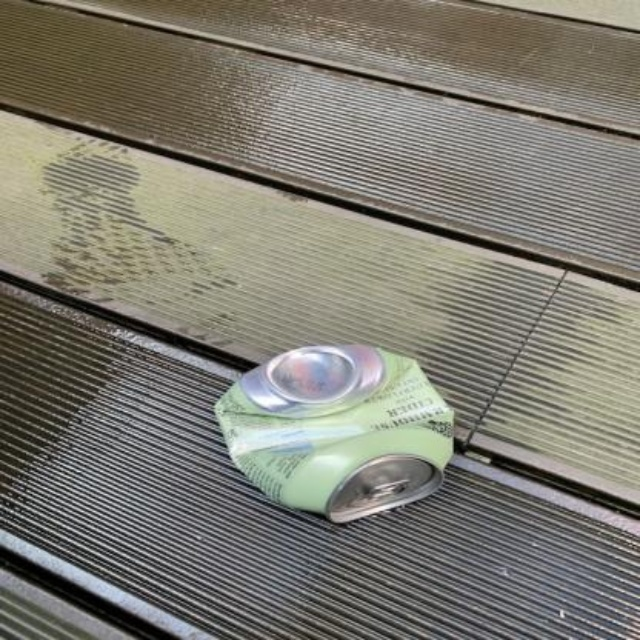trash: (215, 345, 452, 522)
